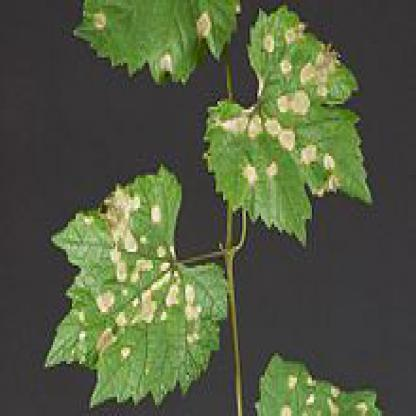grape leaf black rot: (42, 153, 229, 413), (210, 5, 382, 246), (59, 3, 246, 93)
